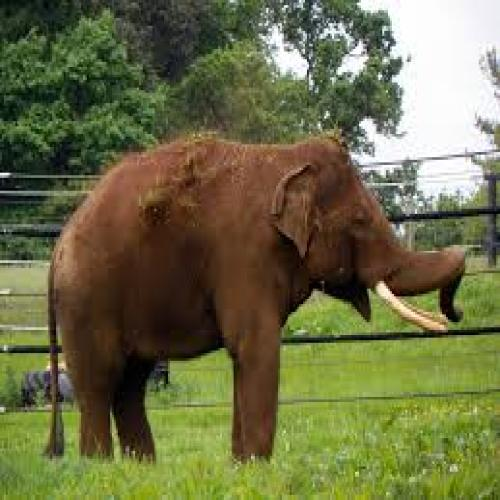asian_elephant-endangered: (44, 131, 467, 459)
